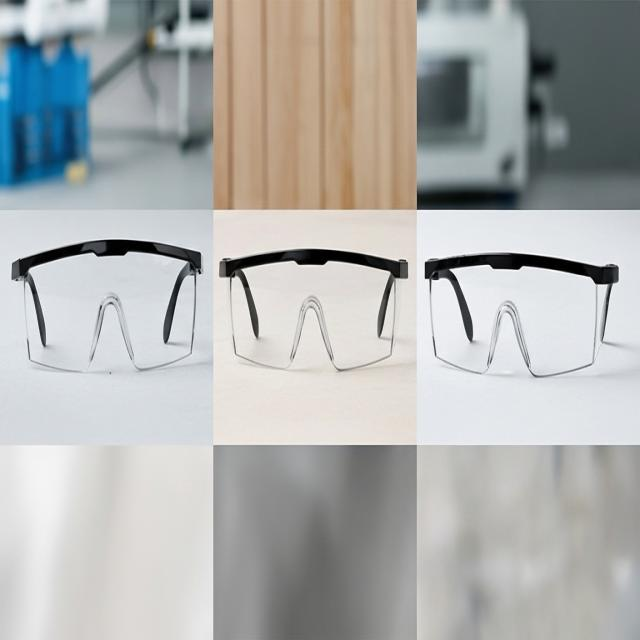oculos-epi: (418, 251, 619, 377), (11, 239, 204, 370), (218, 248, 415, 370)
